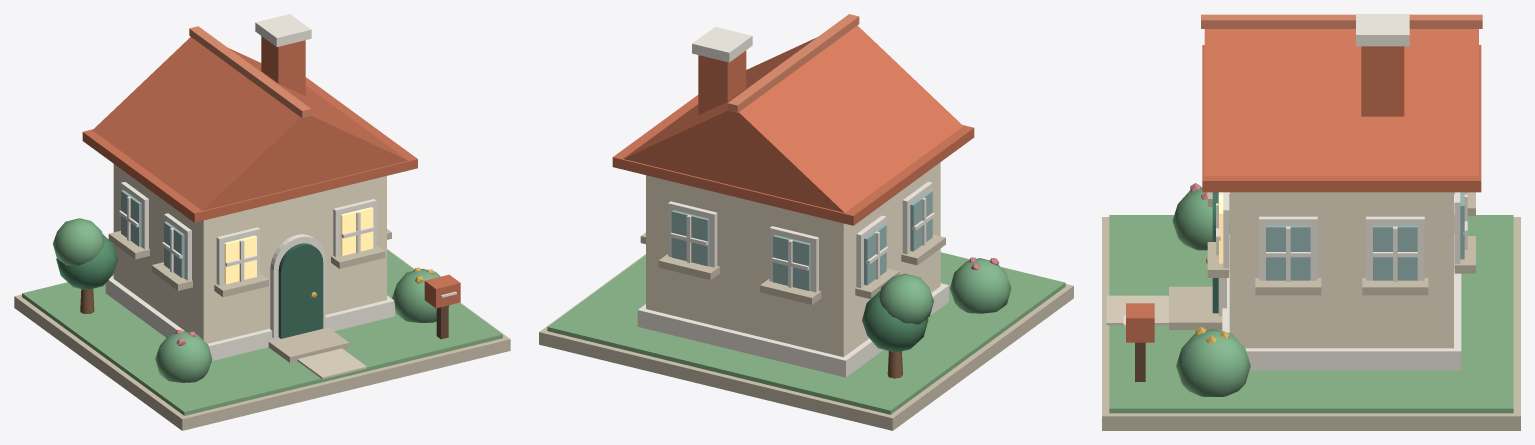
The model's file is chale.glb.
3 renders of one model, left to right at view 1: azimuth 30°, elevation 25°; view 2: azimuth 150°, elevation 25°; view 3: azimuth 270°, elevation 25°, orthographic. The views are drawn at different scales.
Visible parts, largest first — view 1: chale_coral, chale_cream, chale_lawn, chale_stone, chale_white, chale_leafLight, chale_green, chale_glassLight, chale_coralLight, chale_leaf, chale_glass, chale_path; view 2: chale_coral, chale_cream, chale_lawn, chale_stone, chale_white, chale_glass, chale_leafLight, chale_coralLight, chale_leaf; view 3: chale_coral, chale_lawn, chale_cream, chale_stone, chale_white, chale_leafLight, chale_glass, chale_coralLight, chale_path, chale_green, chale_brown.
Part boxes in pixels (x1,y1,x2,y2): chale_coral: [82, 36, 460, 308]; chale_cream: [113, 164, 386, 343]; chale_lawn: [22, 250, 502, 415]; chale_stone: [14, 229, 510, 430]; chale_white: [105, 14, 456, 360]; chale_leafLight: [53, 218, 449, 382]; chale_green: [278, 243, 323, 338]; chale_glassLight: [224, 207, 373, 284]; chale_coralLight: [189, 26, 311, 118]; chale_leaf: [56, 234, 117, 290]; chale_glass: [121, 190, 184, 277]; chale_path: [297, 348, 366, 379]; chale_coral: [612, 25, 974, 225]; chale_cream: [646, 162, 940, 356]; chale_lawn: [547, 252, 1065, 414]; chale_stone: [539, 232, 1073, 430]; chale_white: [637, 27, 948, 377]; chale_glass: [671, 190, 932, 290]; chale_leafLight: [879, 258, 1011, 324]; chale_coralLight: [727, 14, 859, 113]; chale_leaf: [862, 291, 928, 352]; chale_coral: [1126, 29, 1481, 342]; chale_lawn: [1109, 215, 1513, 413]; chale_cream: [1229, 192, 1453, 348]; chale_stone: [1102, 192, 1520, 430]; chale_white: [1123, 14, 1467, 370]; chale_leafLight: [1172, 187, 1250, 396]; chale_glass: [1266, 192, 1464, 280]; chale_coralLight: [1201, 14, 1482, 28]; chale_path: [1106, 295, 1168, 325]; chale_green: [1212, 192, 1218, 313]; chale_brown: [1135, 342, 1145, 381].
Size of the model in its own units: 2.65 by 2.09 by 2.35.
